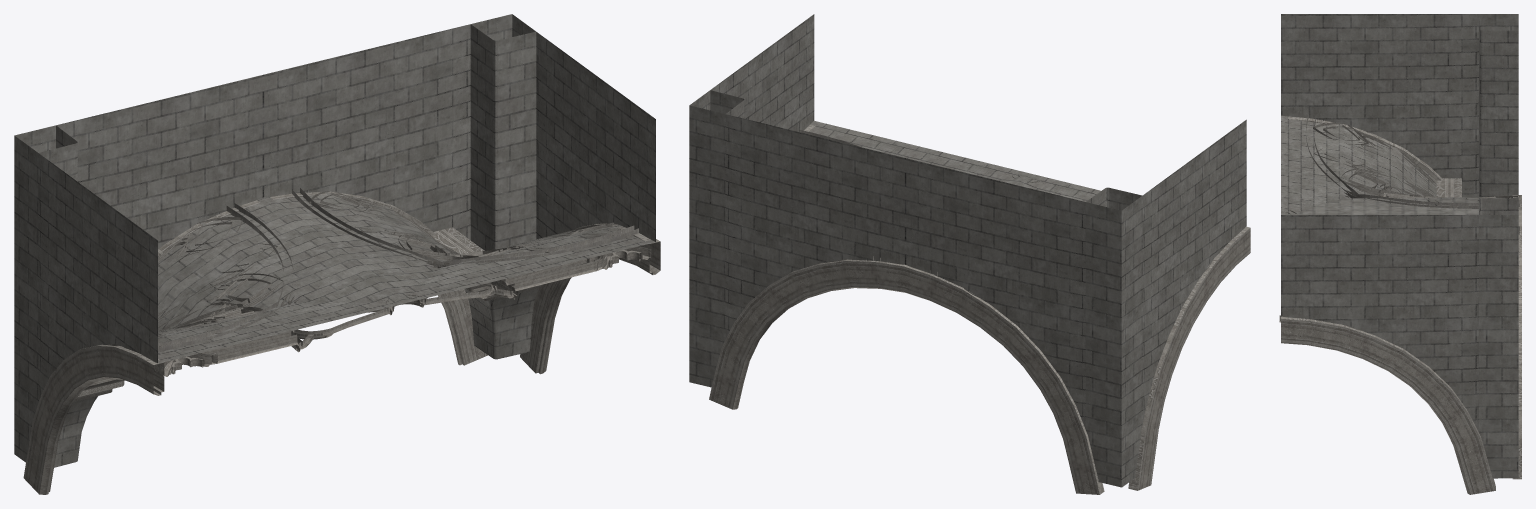
The model's file is SM_ceiling_B_02.fbx.
3 views of the same model, side by side, from view 1: azimuth 30°, elevation 25°; view 2: azimuth 150°, elevation 25°; view 3: azimuth 270°, elevation 25° (orthographic). The views are drawn at different scales.
Parts seen in each view (by area): view 1: SM_ceiling_B_02_LOD0; view 2: SM_ceiling_B_02_LOD0; view 3: SM_ceiling_B_02_LOD0.
Part boxes in pixels (x1,y1,x2,y2): SM_ceiling_B_02_LOD0: (14, 14, 660, 494); SM_ceiling_B_02_LOD0: (689, 14, 1250, 494); SM_ceiling_B_02_LOD0: (1279, 14, 1521, 494).
Size of the model in its own units: 1015 by 509 by 645.
